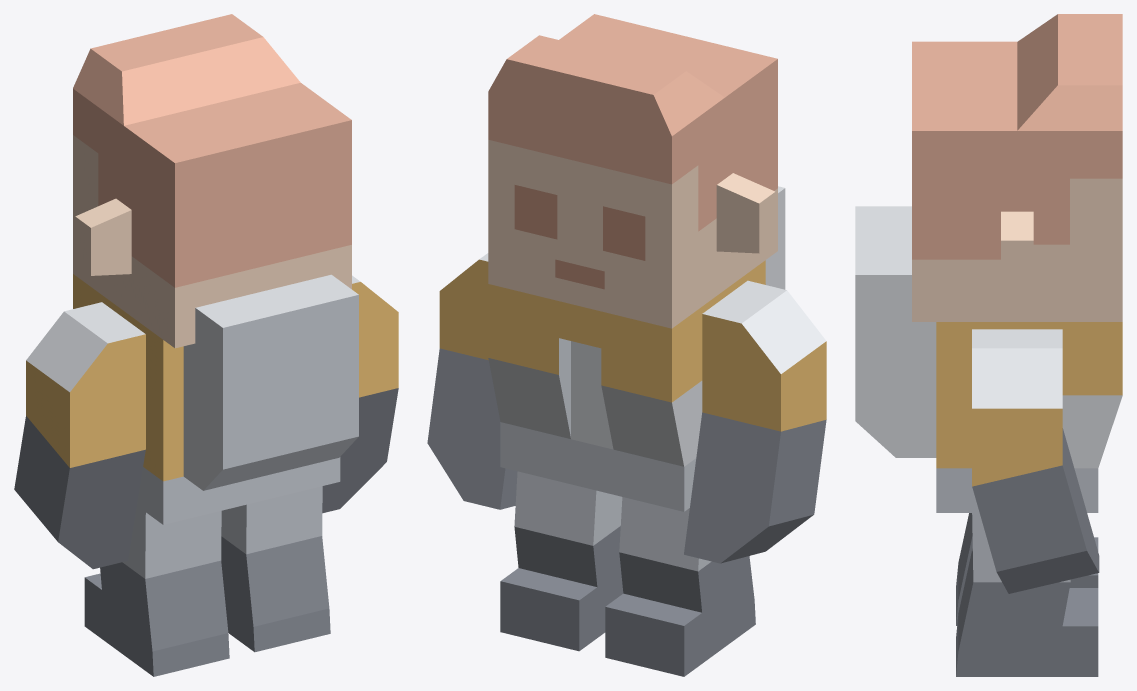
The model's file is astronautA.glb.
3 views of the same model, side by side, from view 1: azimuth 30°, elevation 25°; view 2: azimuth 150°, elevation 25°; view 3: azimuth 270°, elevation 25° (orthographic). The views are drawn at different scales.
Visible parts, largest first — view 1: head, body, armLeft, legLeft, legRight, armRight; view 2: head, body, armLeft, legLeft, legRight, armRight; view 3: head, body, armRight, legRight, legLeft.
Part boxes in pixels (x1,y1,x2,y2): head: [73, 14, 351, 348]; body: [73, 274, 358, 524]; armLeft: [14, 302, 145, 569]; legLeft: [84, 506, 229, 676]; legRight: [221, 486, 330, 652]; armRight: [322, 275, 398, 513]; head: [488, 14, 777, 328]; body: [488, 186, 785, 511]; armLeft: [684, 280, 826, 563]; legLeft: [605, 497, 755, 676]; legRight: [500, 471, 623, 651]; armRight: [427, 253, 517, 509]; head: [912, 14, 1122, 321]; body: [855, 206, 1122, 512]; armRight: [972, 329, 1099, 593]; legRight: [956, 513, 1098, 676]; legLeft: [956, 513, 1098, 625].
Size of the model in its own units: 0.4832 by 0.7932 by 0.33.
1 material, 1 textured.
